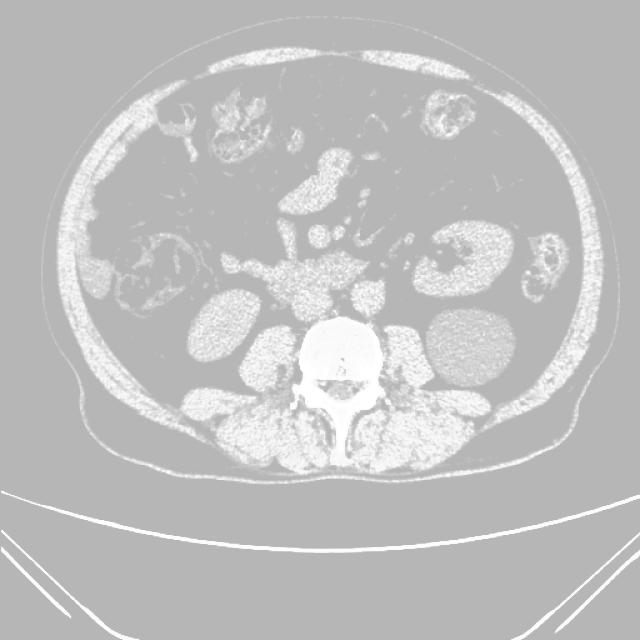cysts: (55, 41, 605, 481)
